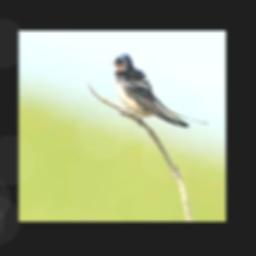Swallow: (112, 54, 208, 128)
